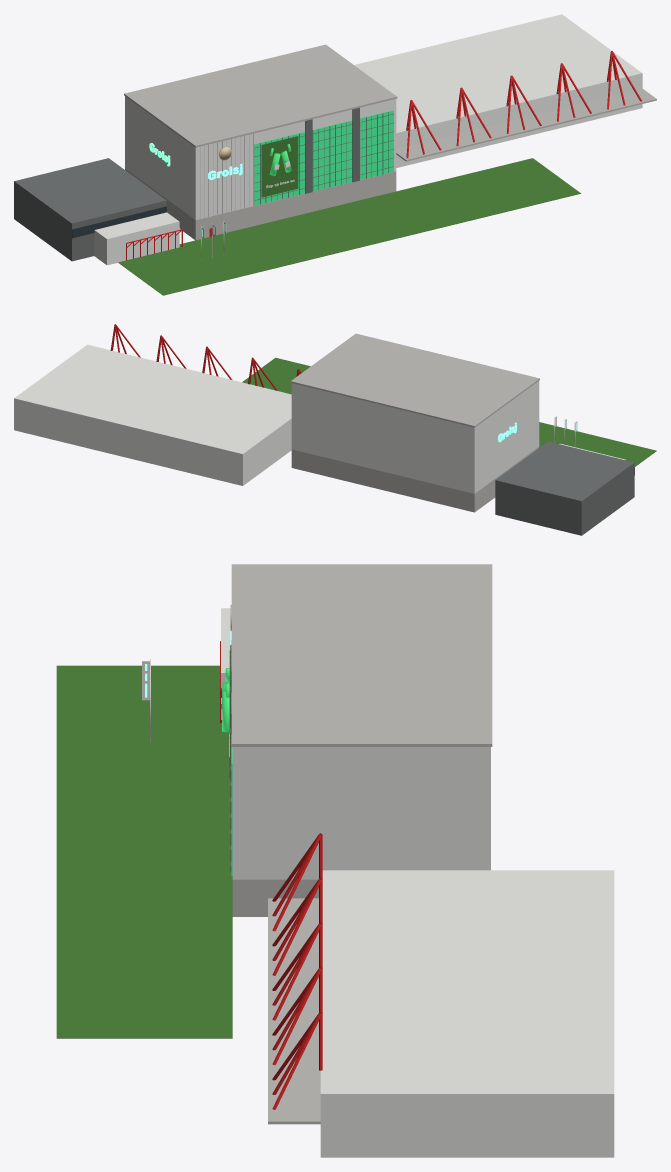
The model's file is lm_brouwerij.glb.
3 renders of one model, top to bottom at view 1: azimuth 30°, elevation 25°; view 2: azimuth 150°, elevation 25°; view 3: azimuth 270°, elevation 25°, orthographic. The views are drawn at different scales.
Parts seen in each view (by area): view 1: dc, lawn, roof_edge, warehouse, brewhouse, base, dock_roof, brewhouse_white, glass1, masts, glass2, ad (+4 smaller); view 2: dc, warehouse, roof_edge, brewhouse, base, lawn, masts; view 3: dc, lawn, roof_edge, warehouse, dock_roof, masts, base.
Boxes of the visible parts, x1,y1,x2,y2 form: dc: (354, 14, 642, 167); lawn: (118, 158, 580, 295); roof_edge: (124, 44, 397, 147); warehouse: (125, 96, 396, 219); brewhouse: (14, 158, 166, 261); base: (125, 168, 396, 240); dock_roof: (396, 88, 656, 161); brewhouse_white: (94, 212, 179, 265); glass1: (312, 120, 352, 191); masts: (406, 51, 641, 158); glass2: (360, 110, 393, 179); ad: (261, 136, 298, 197); dc: (14, 344, 291, 485); warehouse: (291, 381, 539, 493); roof_edge: (290, 333, 539, 427); brewhouse: (495, 441, 634, 535); base: (291, 447, 539, 512); lawn: (242, 357, 656, 466); masts: (110, 324, 301, 390); dc: (320, 870, 614, 1157); lawn: (56, 665, 232, 1038); roof_edge: (231, 564, 492, 746); warehouse: (232, 747, 490, 879); dock_roof: (268, 898, 320, 1124); masts: (272, 833, 322, 1109); base: (232, 879, 318, 916).
Bounding box in the file's own units: 210 × 32.6 × 95.
